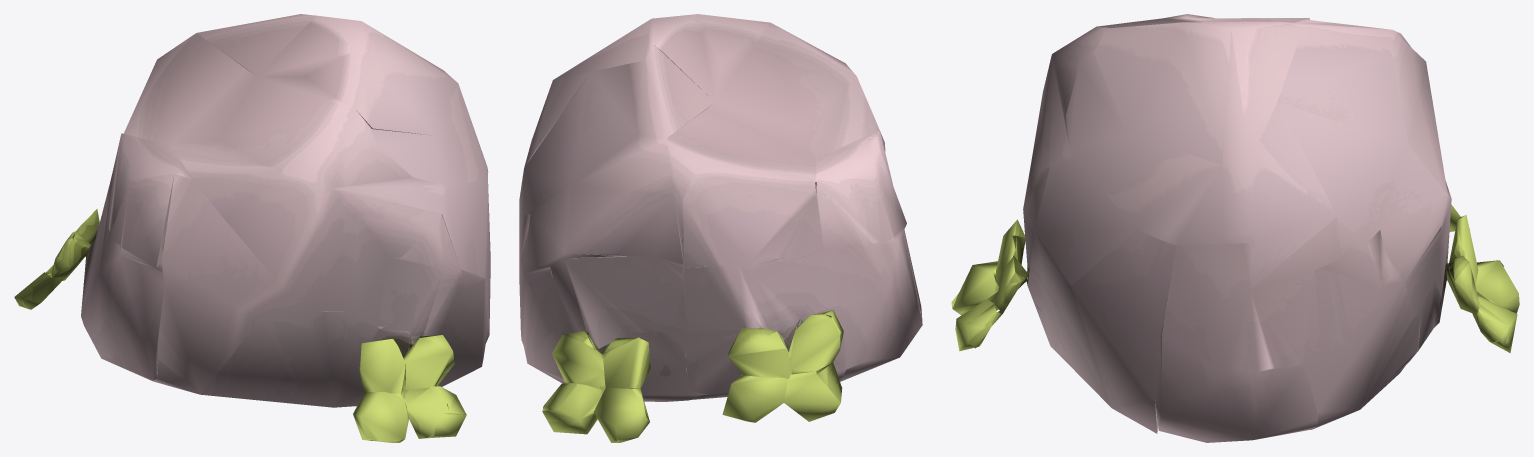
The model's file is M-6_07_rock_small.glb.
3 renders of one model, left to right at view 1: azimuth 30°, elevation 25°; view 2: azimuth 150°, elevation 25°; view 3: azimuth 270°, elevation 25°, orthographic. The views are drawn at different scales.
Visible parts, largest first — view 1: rock_small; view 2: rock_small; view 3: rock_small.
Part boxes in pixels (x1=…): rock_small: x1=14, y1=14, x2=490, y2=442; rock_small: x1=519, y1=14, x2=922, y2=442; rock_small: x1=951, y1=14, x2=1519, y2=442.
Bounding box in the file's own units: 1.27 × 1.06 × 1.5.
Materials: 1 (1 with a texture image).
